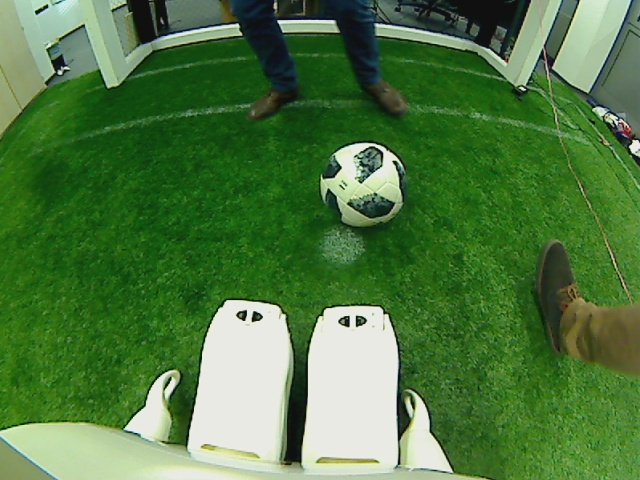ball: (322, 137, 405, 228)
